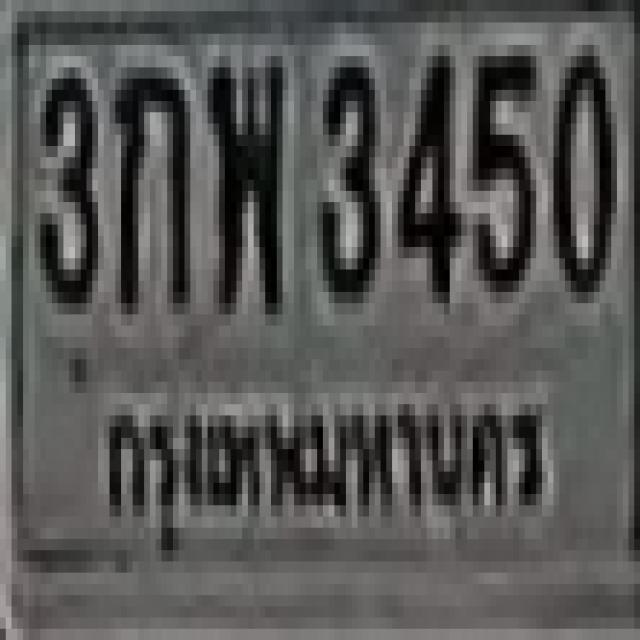-: (204, 50, 280, 298), (110, 56, 184, 303)
0: (548, 40, 611, 286)
3: (317, 56, 375, 292), (35, 68, 92, 304)
4: (395, 45, 453, 292)
5: (467, 40, 530, 286)
BKK: (72, 356, 573, 570)
